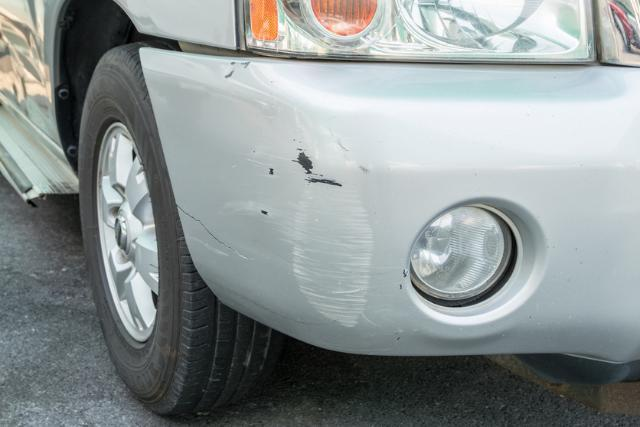Bumper: (137, 47, 428, 361)
